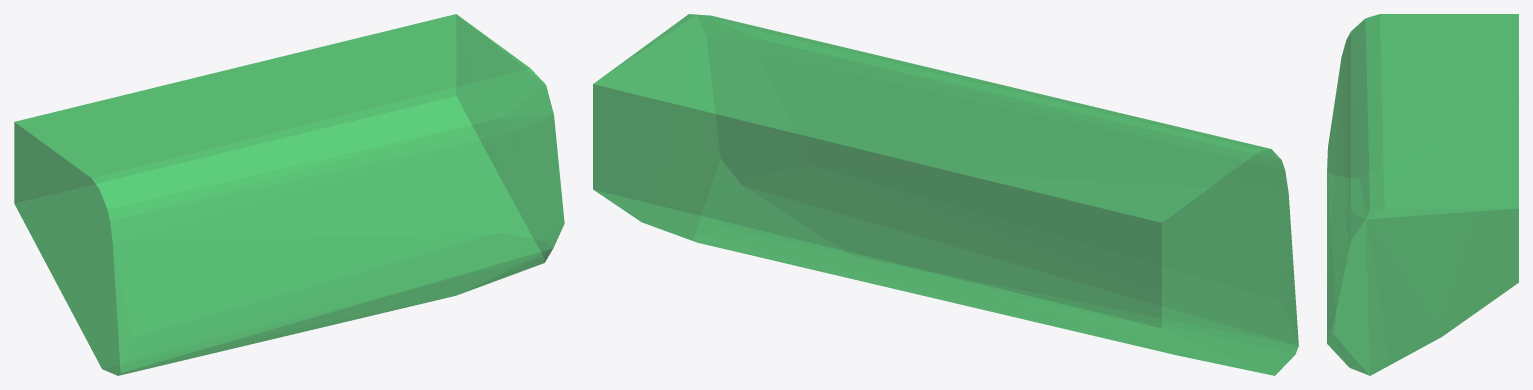
The picture shows the model from 3 angles, left to right: view 1: azimuth 30°, elevation 25°; view 2: azimuth 150°, elevation 25°; view 3: azimuth 270°, elevation 25°; orthographic projection. The views are drawn at different scales.
Visible parts, largest first — view 1: Shape_IndexedFaceSet.001_Shape_IndexedFaceSet.14048; view 2: Shape_IndexedFaceSet.001_Shape_IndexedFaceSet.14048; view 3: Shape_IndexedFaceSet.001_Shape_IndexedFaceSet.14048.
Part boxes in pixels (x1,y1,x2,y2): Shape_IndexedFaceSet.001_Shape_IndexedFaceSet.14048: (14, 14, 564, 375); Shape_IndexedFaceSet.001_Shape_IndexedFaceSet.14048: (593, 14, 1298, 375); Shape_IndexedFaceSet.001_Shape_IndexedFaceSet.14048: (1327, 14, 1518, 375).
Bounding box in the file's own units: 0.2694 × 0.1055 × 0.1111.
